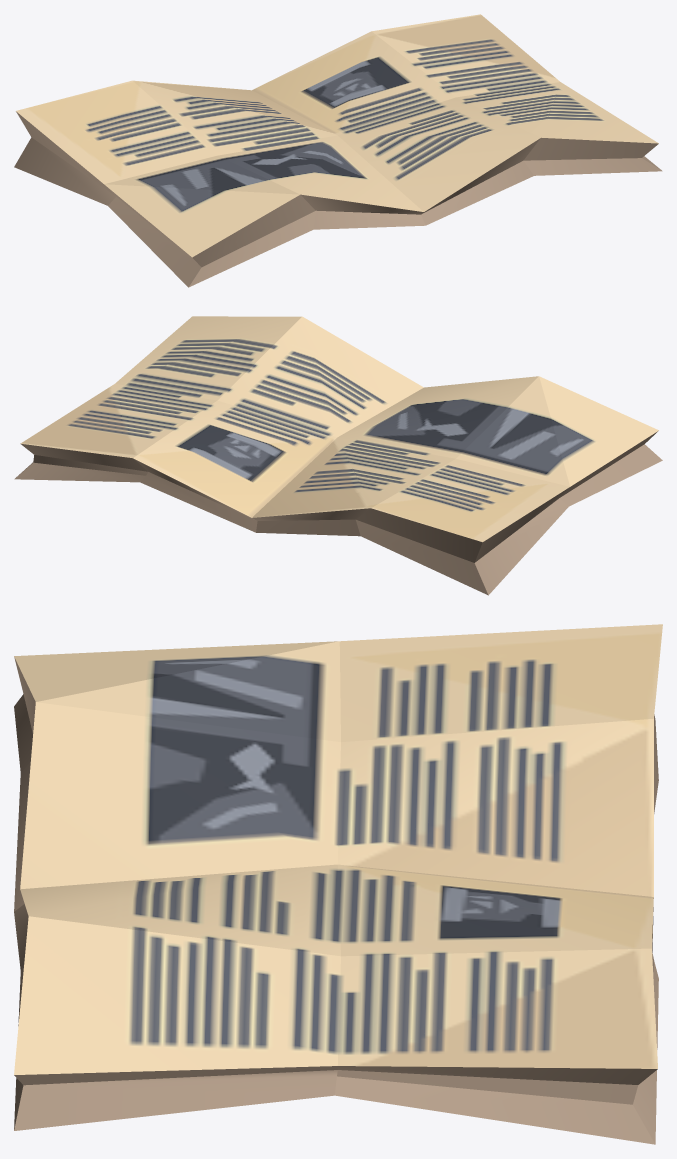
Rendered from newspaper_open_customer.fbx.
The picture shows the model from 3 angles, top to bottom: view 1: azimuth 30°, elevation 25°; view 2: azimuth 150°, elevation 25°; view 3: azimuth 270°, elevation 25°; orthographic projection. The views are drawn at different scales.
Visible parts, largest first — view 1: newspaper_open_customer; view 2: newspaper_open_customer; view 3: newspaper_open_customer.
Part boxes in pixels (x1=…): newspaper_open_customer: x1=14, y1=14, x2=662, y2=287; newspaper_open_customer: x1=14, y1=316, x2=662, y2=595; newspaper_open_customer: x1=14, y1=624, x2=662, y2=1144.
Size of the model in its own units: 68.73 by 9.3 by 44.29.
